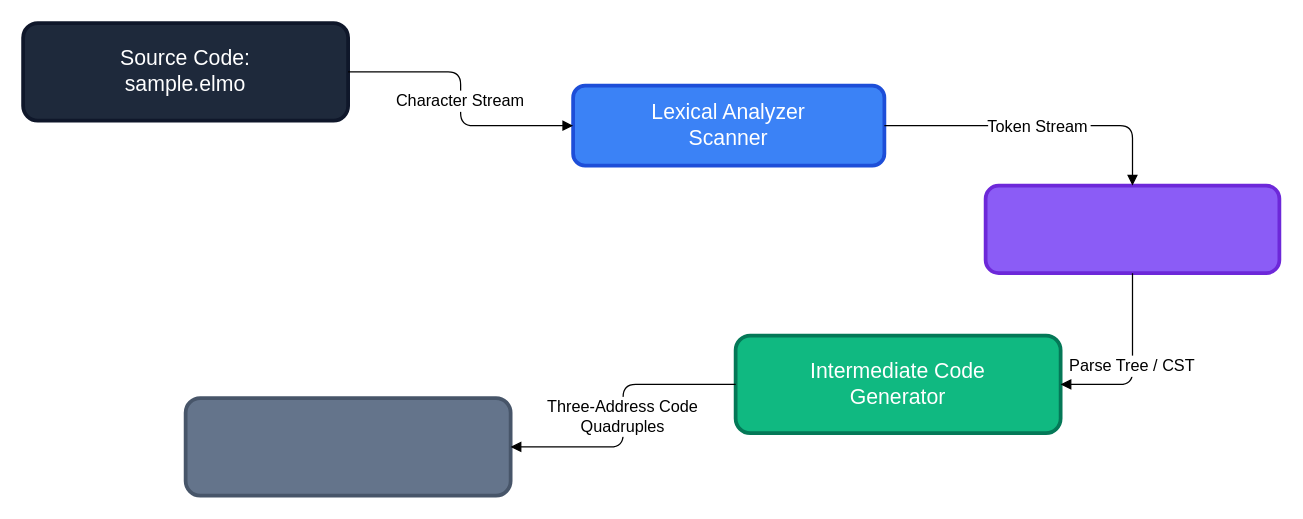
This 1303x519 diagram has some shape labels left out. Here are the shapes that lost their labels. From the top down, the centre of each, then its label:
At [1132,228]: "Syntax Analyzer Parser".
At [347,446]: "Optimization / Target Code Gen".
